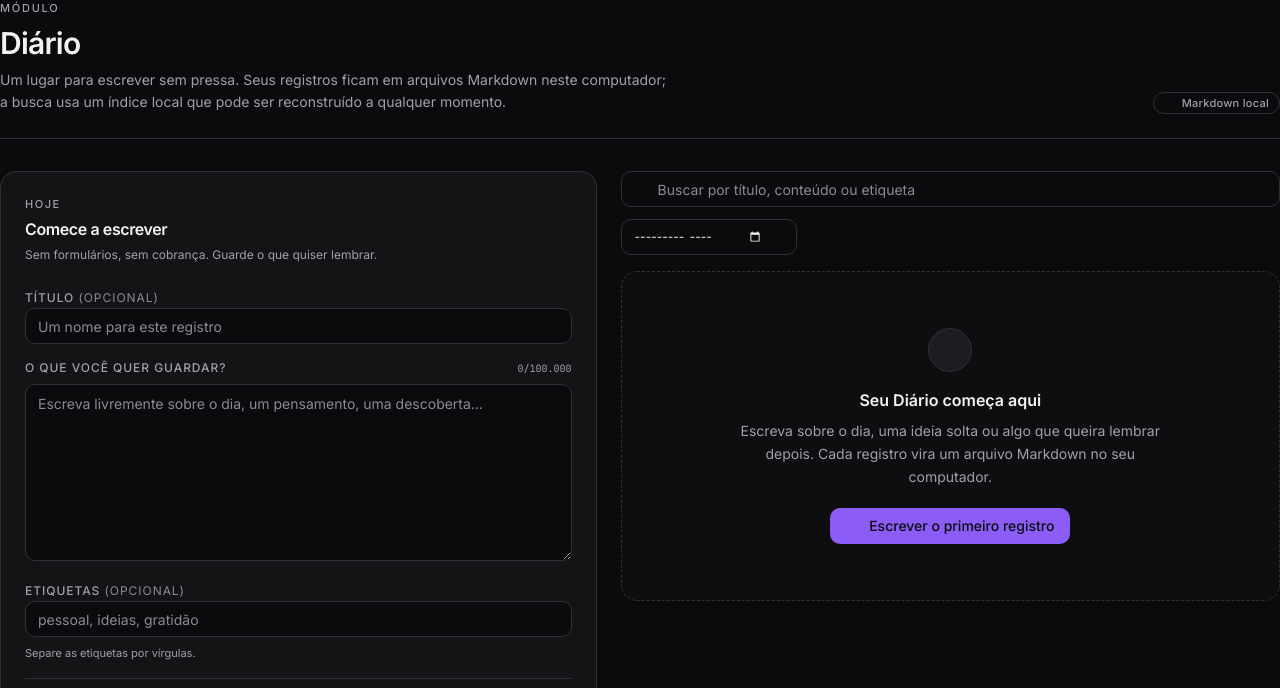
DiaryPage › cria um registro e confirma o salvamento
The image size is (1280, 688).
Expected: the heading "Seu Diário começa aqui" is shown, x1=859 y1=388 x2=1041 y2=412
Type "Primeiro registro" into the field labelled "Título (opcional)" at (298, 326), box x1=25 y1=308 x2=572 y2=344
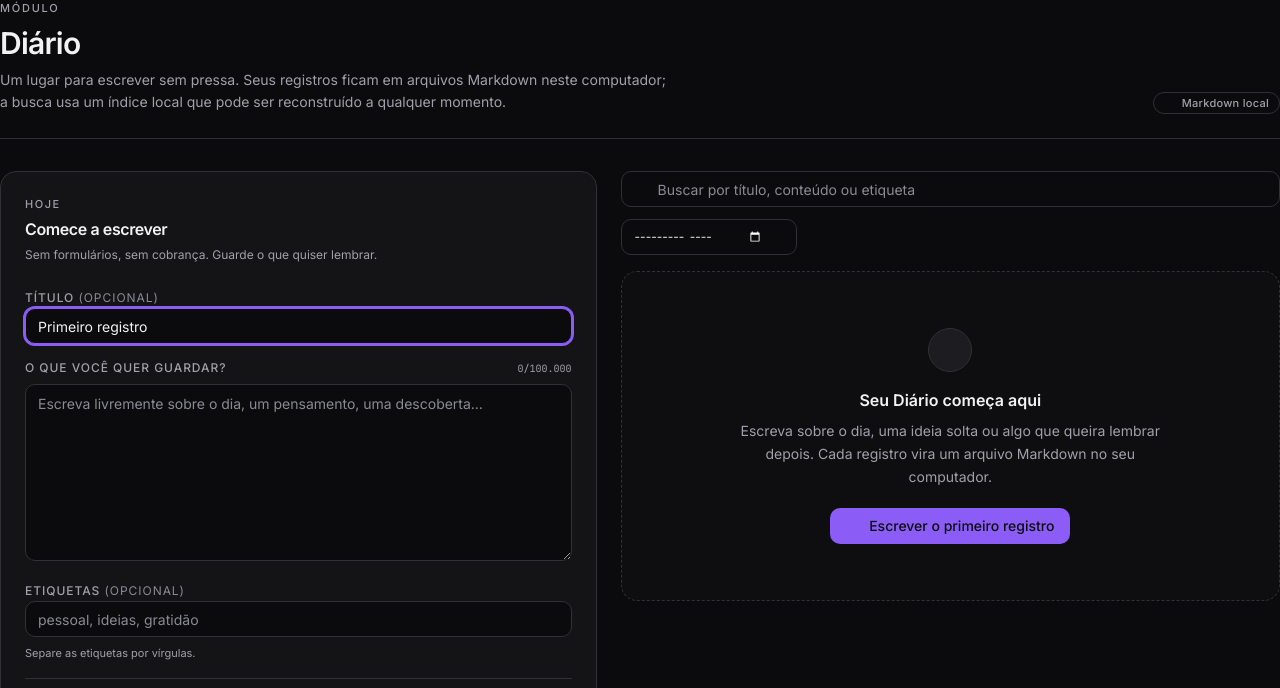
Type "Um começo tranquilo." into the text box labelled "O que você quer guardar?" at (298, 473), box x1=25 y1=384 x2=572 y2=561
(page scrolled)
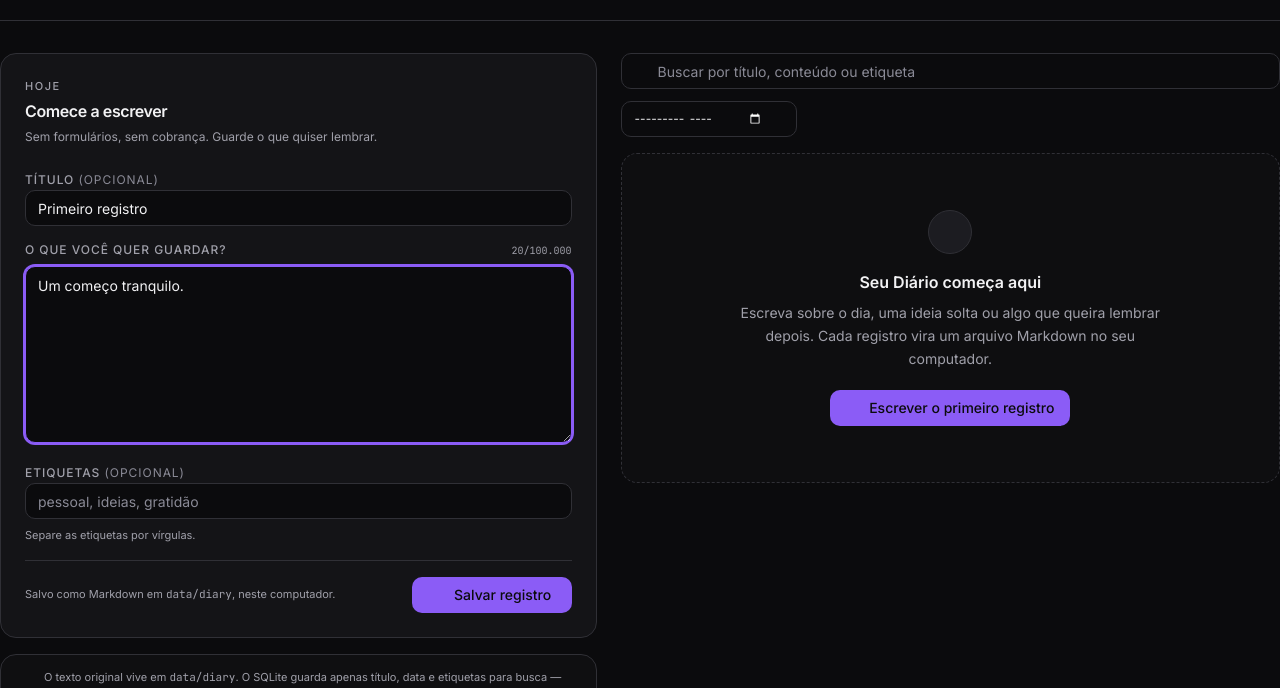
Click the button "Salvar registro" at (492, 595), box x1=412 y1=577 x2=572 y2=613
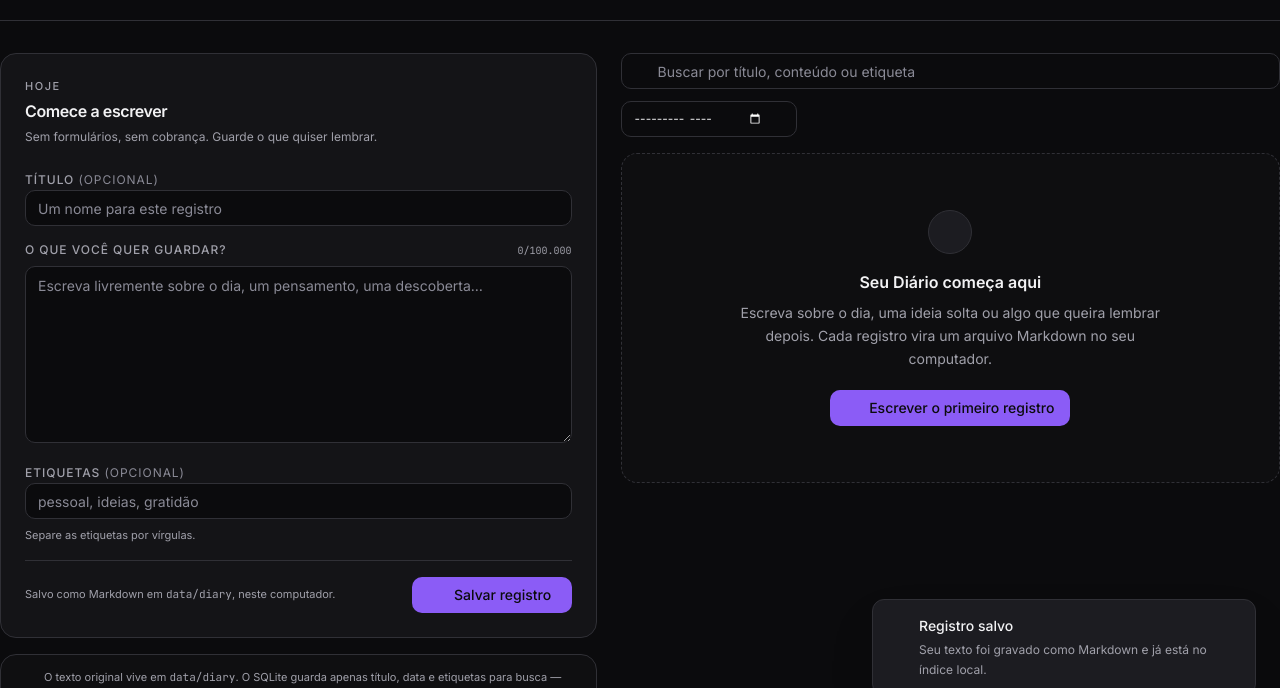
Expected: the text "Registro salvo" is shown, x1=919 y1=617 x2=1013 y2=634
